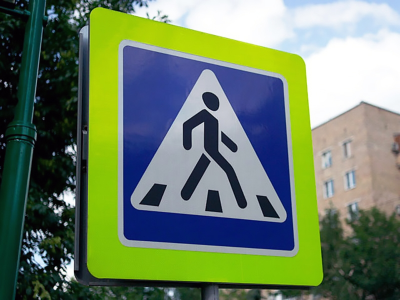crosswalk: (127, 64, 290, 240)
